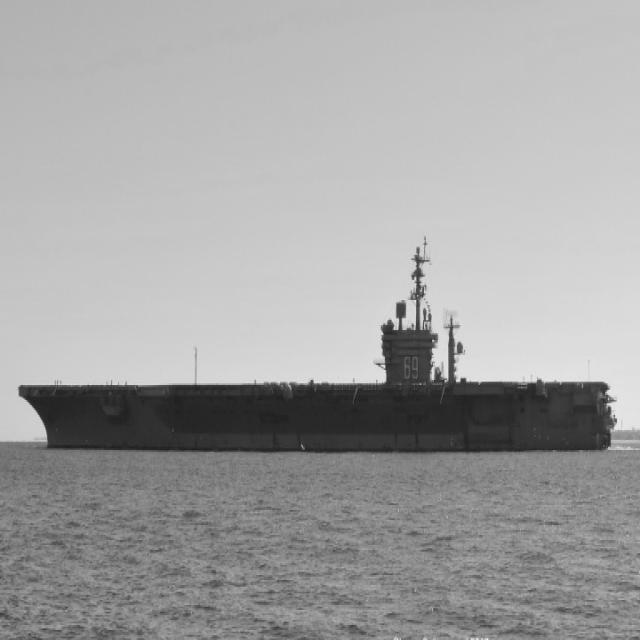Portanaves: (17, 238, 623, 454)
